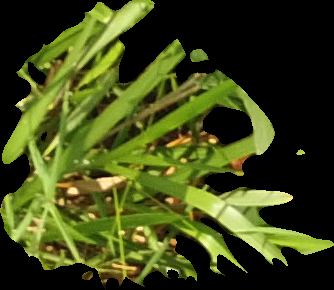grass: (1, 1, 331, 288)
